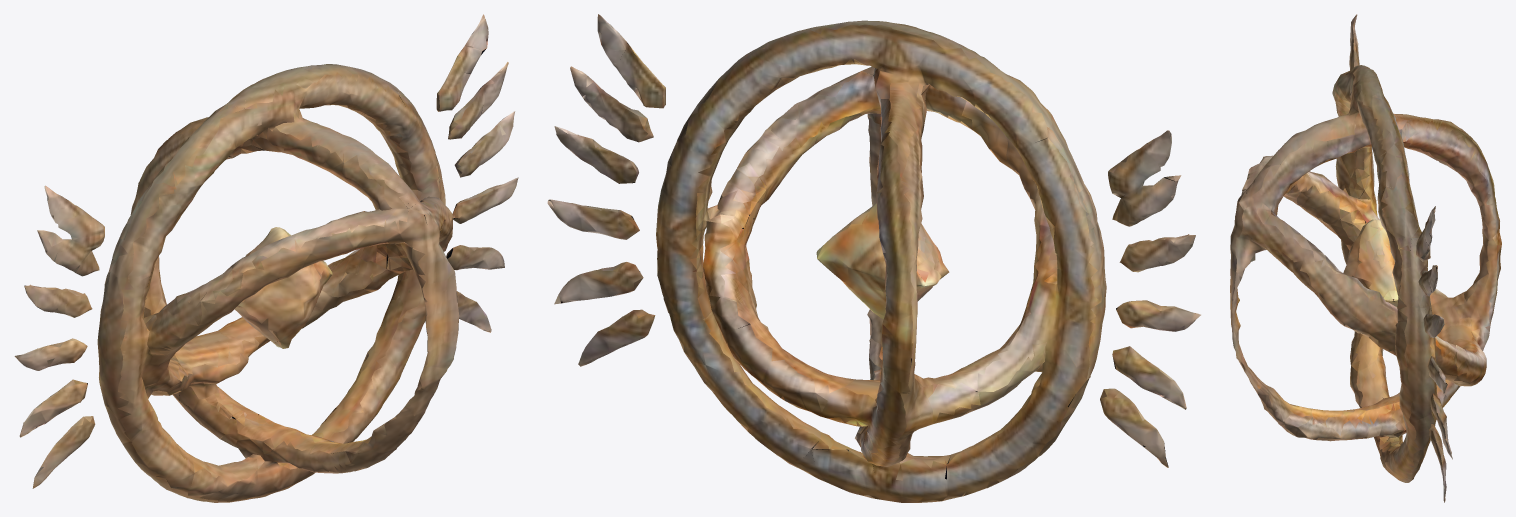
The model's file is aethelian_archon_strider.glb.
3 views of the same model, side by side, from view 1: azimuth 30°, elevation 25°; view 2: azimuth 150°, elevation 25°; view 3: azimuth 270°, elevation 25° (orthographic). The views are drawn at different scales.
Visible parts, largest first — view 1: geometry_0; view 2: geometry_0; view 3: geometry_0.
Part boxes in pixels (x1=…): geometry_0: x1=14, y1=14, x2=518, y2=502; geometry_0: x1=547, y1=14, x2=1200, y2=502; geometry_0: x1=1230, y1=14, x2=1501, y2=502.
Size of the model in its own units: 0.9365 by 0.6938 by 0.4439.
1 material, 1 textured.
